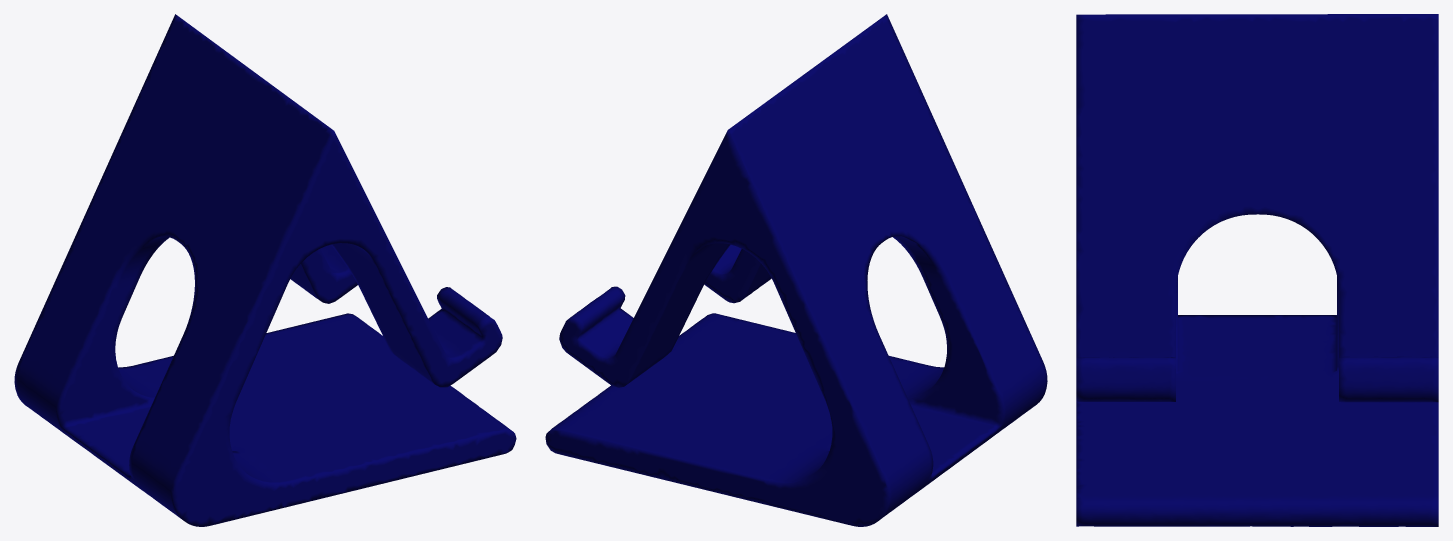
The model's file is phone_holder_decimated.obj.
3 renders of one model, left to right at view 1: azimuth 30°, elevation 25°; view 2: azimuth 150°, elevation 25°; view 3: azimuth 270°, elevation 25°, orthographic. The views are drawn at different scales.
Size of the model in its own units: 83.56 by 84.99 by 67.
